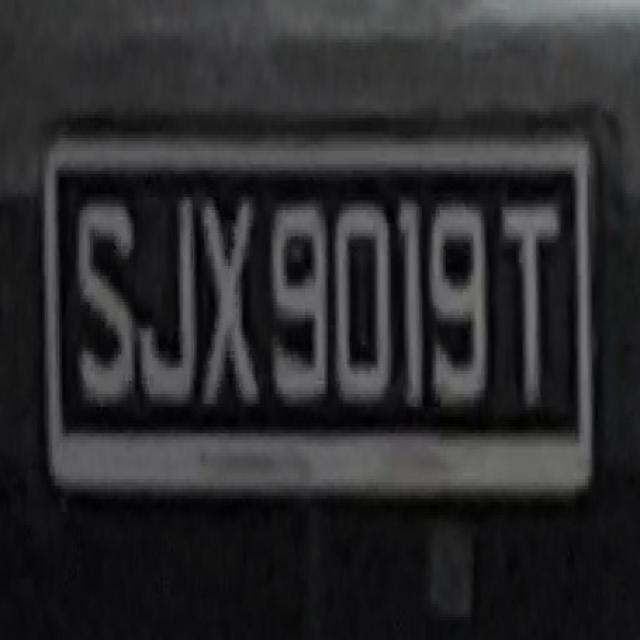0: (333, 194, 392, 407)
1: (395, 197, 425, 420)
9: (425, 194, 489, 414), (267, 190, 329, 407)
J: (138, 187, 197, 400)
S: (72, 187, 135, 410)
T: (499, 194, 552, 410)
X: (198, 194, 260, 414)
